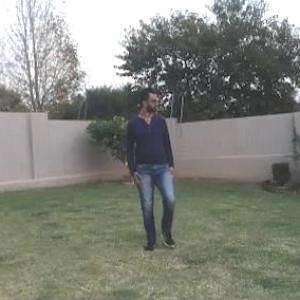follow: (126, 75, 178, 251)
